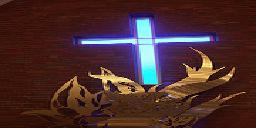LED: (72, 14, 215, 85)
